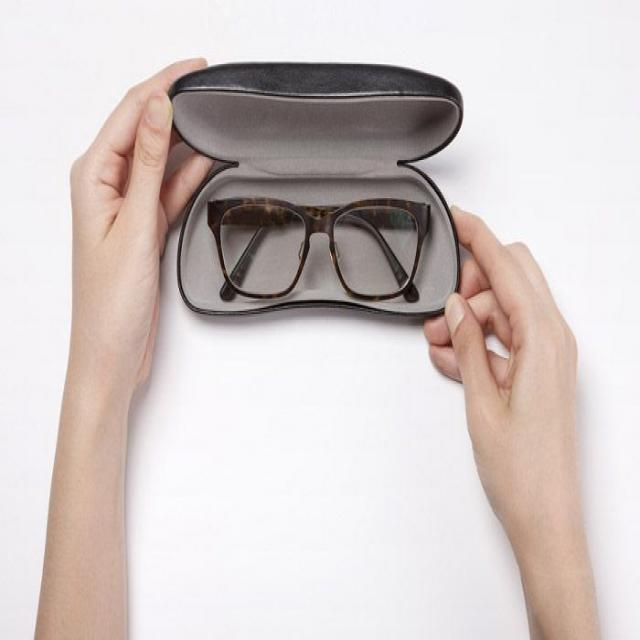glasses: (194, 170, 438, 316)
